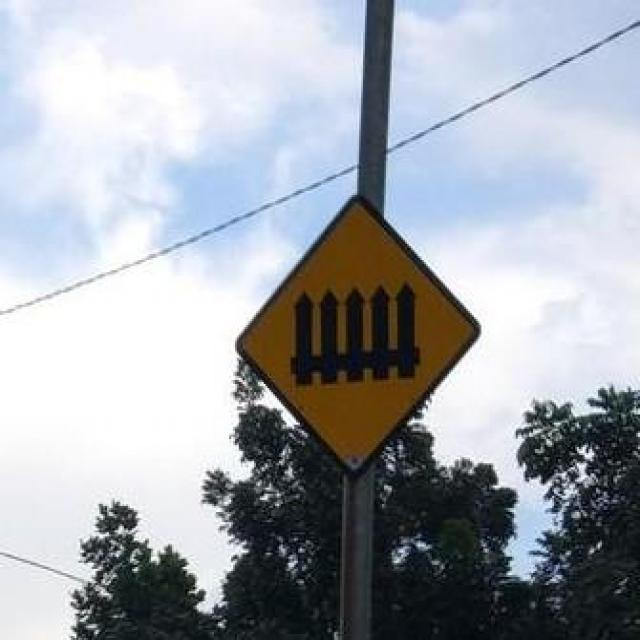traffic sign: (248, 204, 472, 472)
